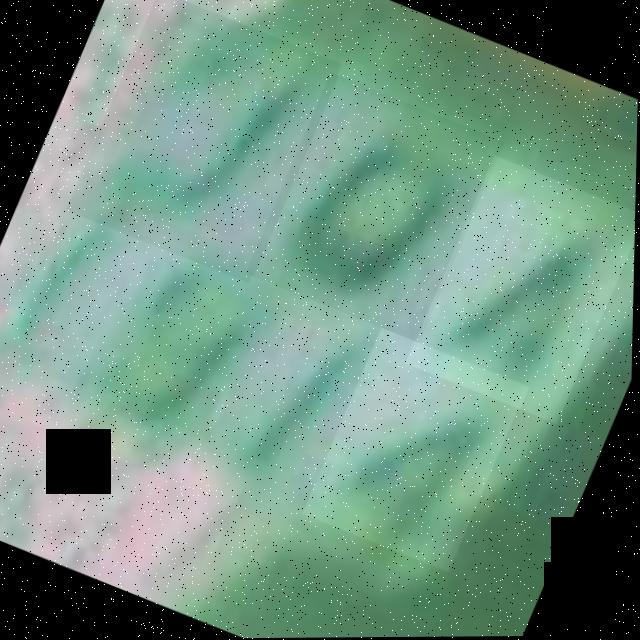1: (201, 274, 393, 516)
4: (304, 327, 531, 574)
A: (406, 154, 637, 425)
J: (65, 0, 344, 285)
O: (246, 72, 506, 345)
